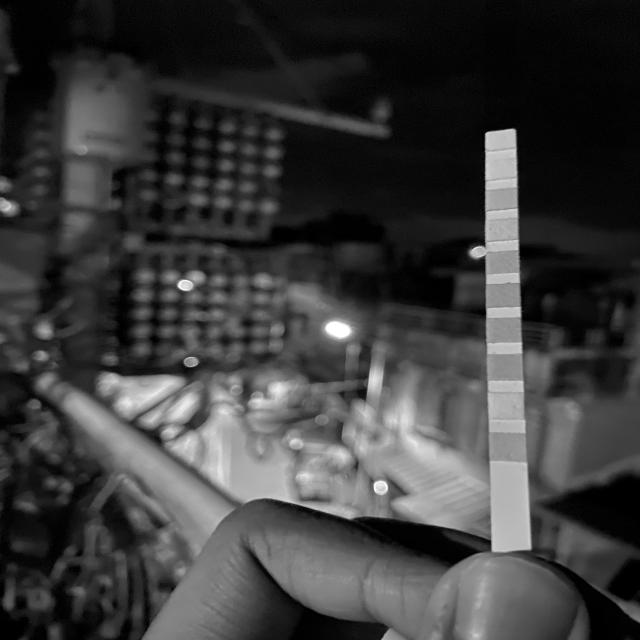Bilirubin: (488, 394, 523, 419)
Blood: (487, 284, 520, 306)
Glucose: (490, 433, 525, 461)
Ketone: (488, 356, 523, 380)
Leukocytes: (486, 133, 516, 148)
Nitrite: (487, 161, 516, 177)
Protein: (486, 220, 518, 240)
SpGravity: (488, 318, 520, 342)
Urobilinogen: (486, 191, 516, 207)
background: (0, 0, 640, 640)
pH: (487, 253, 518, 272)
strip: (486, 129, 532, 548)
